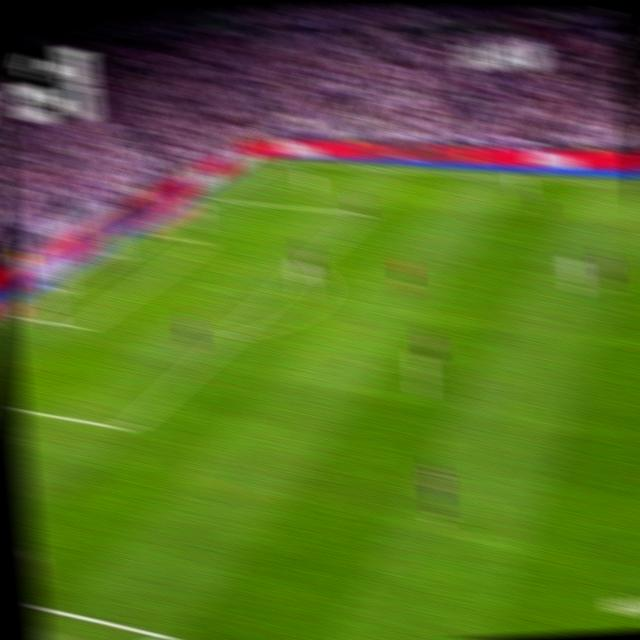bigarea_bottom_inner: (117, 414, 139, 441)
bigarea_top_outter: (206, 190, 222, 203)
bottom_arc_area_intersection: (220, 323, 243, 345)
corner: (261, 152, 282, 167)
smallarea_bottom_inner: (71, 315, 91, 337)
top_arc_area_intersection: (303, 252, 321, 268)
